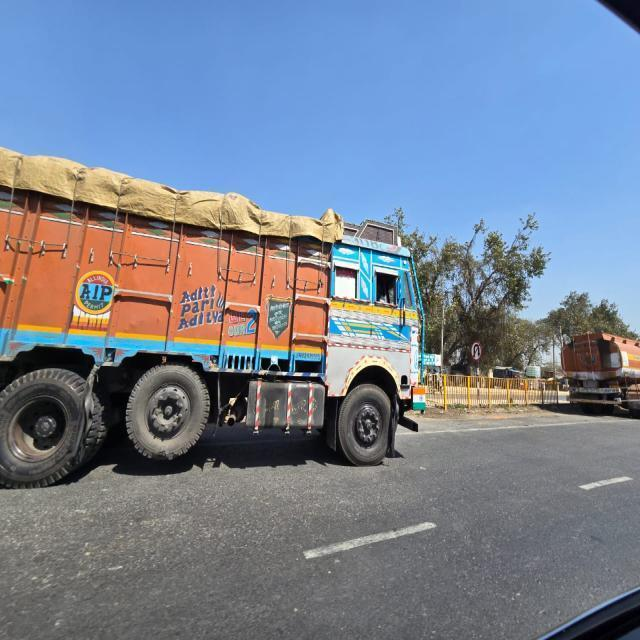covered: (0, 136, 417, 470)
